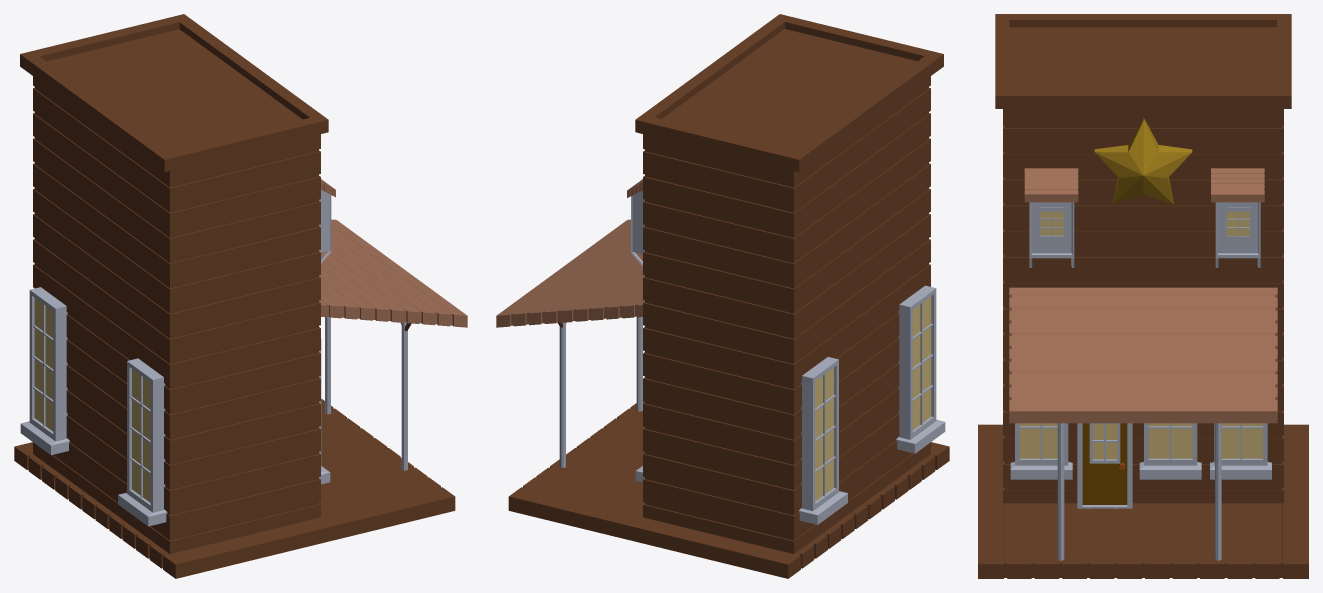
Rendered from Sheriff.fbx.
The picture shows the model from 3 angles, left to right: view 1: azimuth 30°, elevation 25°; view 2: azimuth 150°, elevation 25°; view 3: azimuth 270°, elevation 25°; orthographic projection. The views are drawn at different scales.
Visible parts, largest first — view 1: Sherriff; view 2: Sherriff; view 3: Sherriff.
Boxes of the visible parts, x1,y1,x2,y2 form: Sherriff: [14, 14, 467, 578]; Sherriff: [496, 14, 949, 578]; Sherriff: [978, 14, 1308, 578].
Size of the model in its own units: 216 by 267 by 189.
